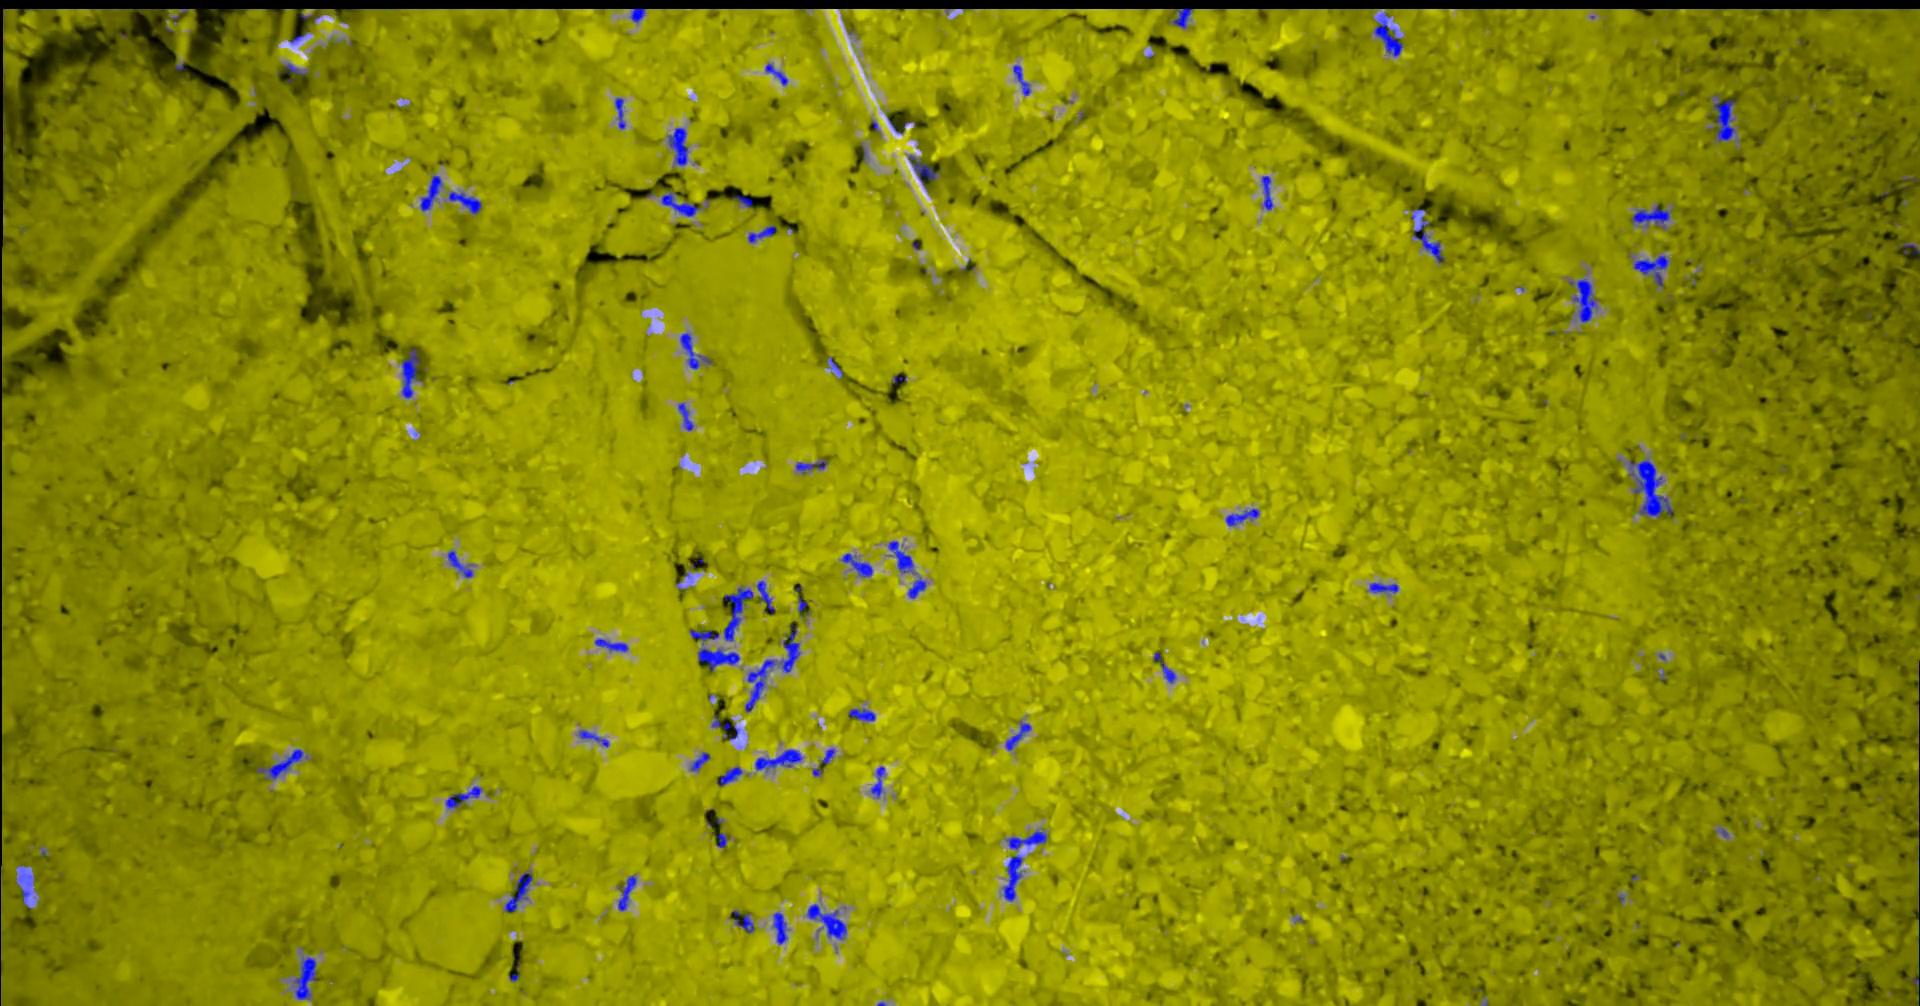ant: (744, 622, 799, 711), (690, 629, 739, 671), (723, 587, 752, 641), (257, 748, 307, 779), (1412, 216, 1444, 262), (806, 903, 846, 939), (1374, 11, 1402, 56), (1570, 278, 1596, 323), (679, 333, 711, 370), (504, 873, 532, 912), (1633, 255, 1669, 286), (660, 191, 700, 216), (1712, 98, 1735, 141), (1002, 855, 1023, 901), (293, 956, 316, 998), (908, 154, 937, 185), (1630, 205, 1669, 229), (754, 749, 803, 768), (401, 348, 419, 398), (888, 541, 914, 573), (419, 175, 442, 211), (1004, 829, 1046, 848), (444, 786, 481, 808), (667, 127, 687, 165), (448, 191, 481, 213), (1004, 721, 1031, 749), (841, 553, 872, 575), (1152, 652, 1175, 683), (711, 713, 738, 739), (447, 550, 472, 577), (617, 875, 636, 909), (756, 580, 775, 612), (1225, 508, 1258, 526), (747, 224, 775, 243), (731, 909, 754, 932), (1013, 65, 1030, 95), (578, 729, 608, 746), (764, 64, 787, 85), (772, 912, 787, 944), (677, 401, 693, 431), (594, 638, 627, 652), (717, 766, 742, 785), (795, 459, 827, 473), (870, 766, 884, 796), (1261, 175, 1272, 210), (1172, 8, 1192, 27), (907, 577, 924, 598), (690, 751, 709, 770), (848, 708, 875, 720), (615, 97, 625, 128), (1369, 582, 1398, 592), (284, 62, 307, 75), (731, 194, 752, 207), (797, 594, 808, 617), (629, 8, 645, 22), (820, 748, 834, 763), (1901, 243, 1919, 254), (19, 873, 34, 885), (716, 832, 726, 847)
